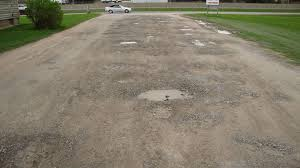pothole: (126, 79, 199, 108), (113, 37, 143, 46)
